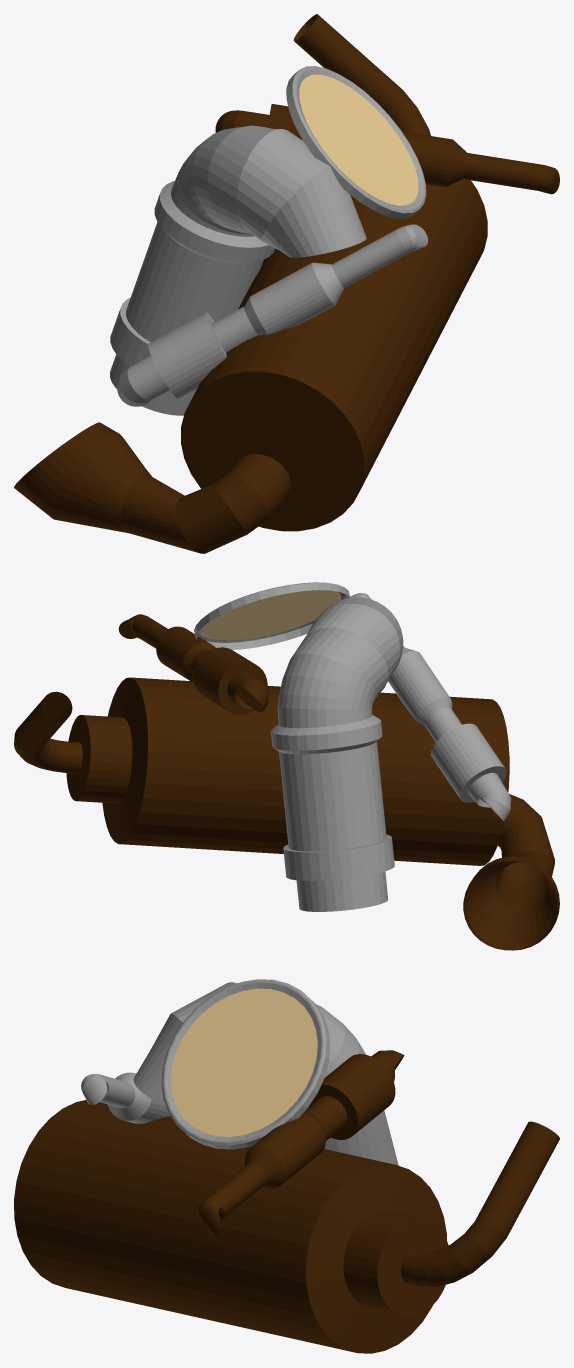
Rendered from scrap (drill).fbx.
3 views of the same model, one above another, from view 1: azimuth 30°, elevation 25°; view 2: azimuth 150°, elevation 25°; view 3: azimuth 270°, elevation 25° (orthographic). The views are drawn at different scales.
Parts seen in each view (by area): view 1: Cube.001, Cube.003, Cube.005, Cube.004, Cube.002; view 2: Cube.001, Cube.003, Cube.005, Cube.002, Cube.004; view 3: Cube.001, Cube.004, Cube.002, Cube.003, Cube.005.
Boxes of the visible parts, x1,y1,x2,y2 form: Cube.001: (14, 14, 487, 553); Cube.003: (110, 125, 366, 415); Cube.005: (117, 224, 427, 406); Cube.004: (286, 66, 426, 218); Cube.002: (215, 104, 559, 194); Cube.001: (14, 677, 559, 950); Cube.003: (270, 597, 403, 911); Cube.005: (350, 593, 511, 820); Cube.002: (118, 614, 269, 714); Cube.004: (194, 582, 350, 649); Cube.001: (14, 1100, 559, 1353); Cube.004: (161, 979, 330, 1149); Cube.002: (198, 1050, 404, 1235); Cube.003: (133, 982, 398, 1165); Cube.005: (81, 1072, 170, 1123).
Bounding box in the file's own units: 417 × 284 × 378.
